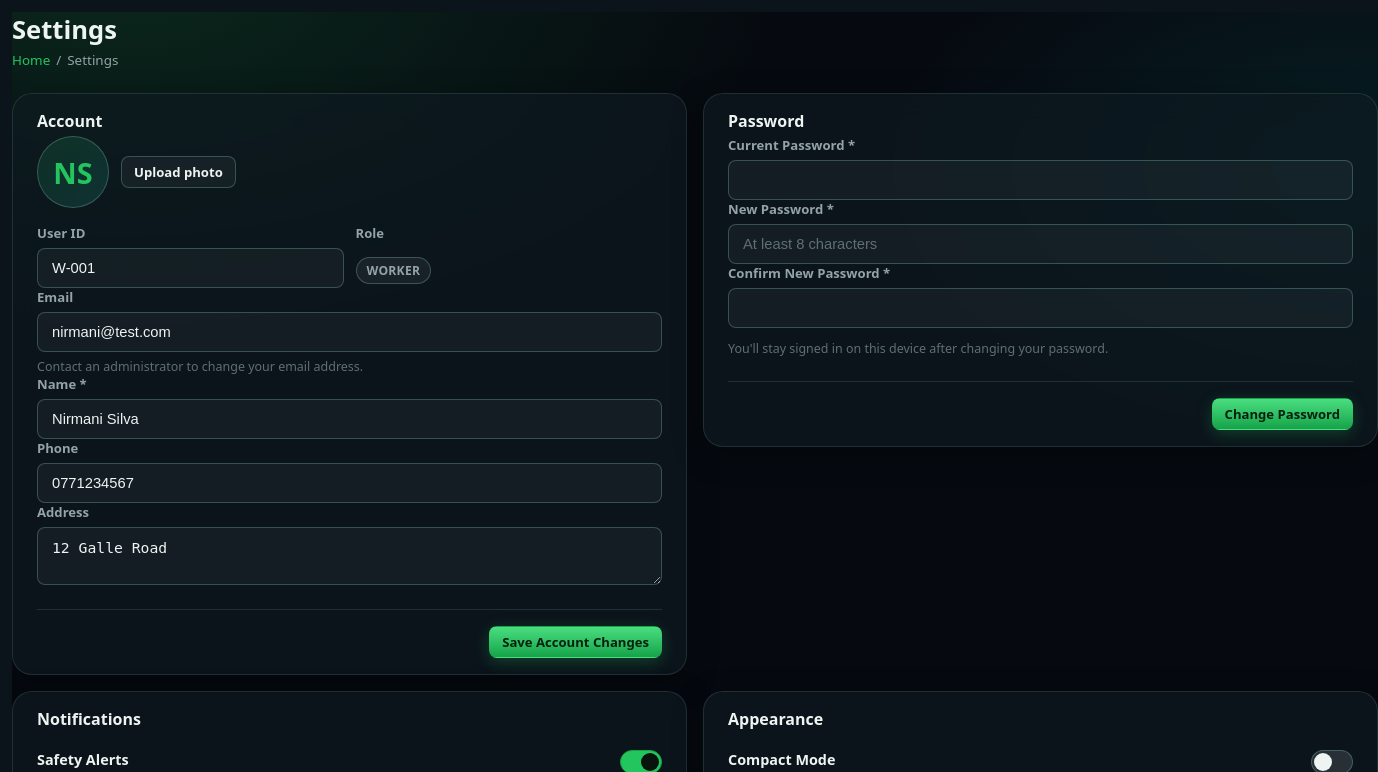
Test: SettingsPage — Account › a server-side validation error (e.g. bad phone) is shown on the field
The width and height of the screenshot is (1378, 772).
Check: the field showing "Nirmani Silva" is shown, box [37,399,662,439]
Click the button "Save Account Changes".
click(576, 642)  # box [489,626,662,658]
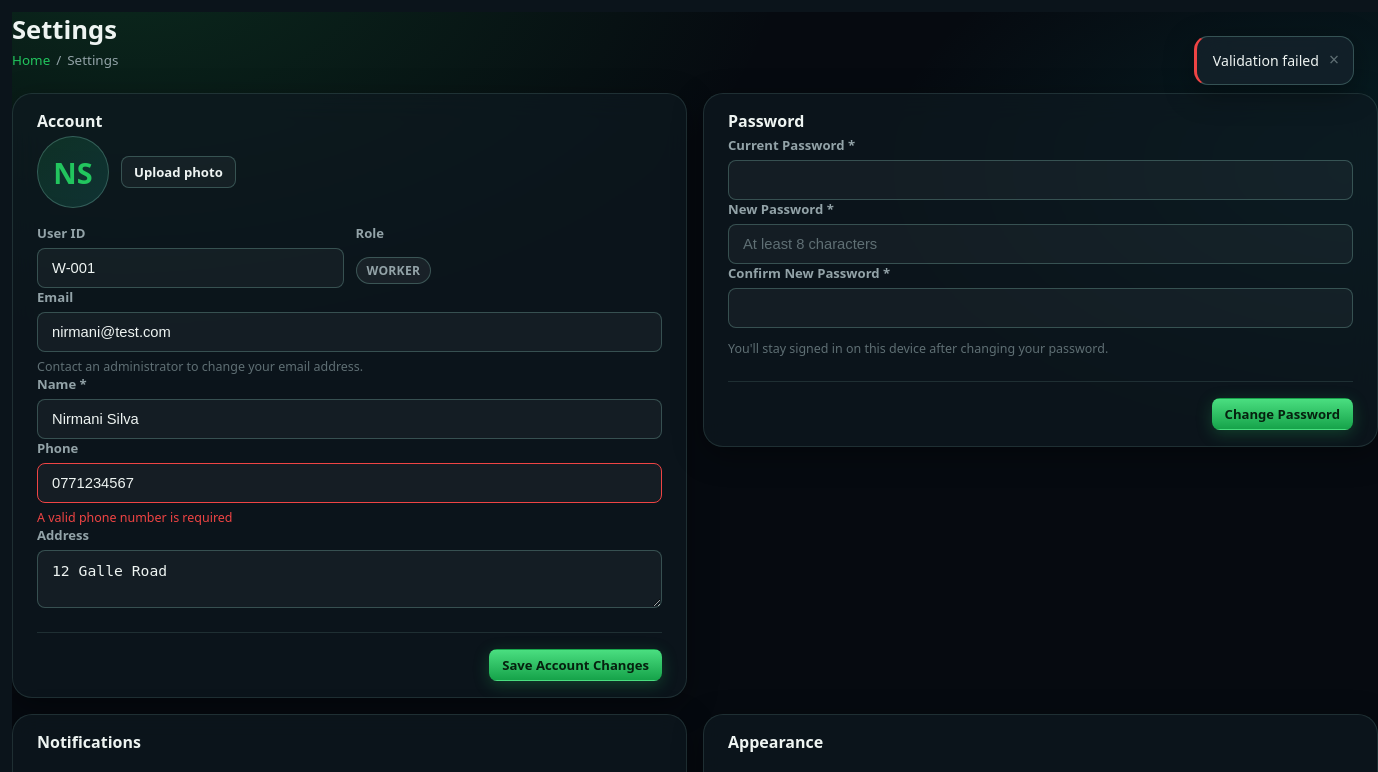
Check: the text "A valid phone number is required" is shown, box [37,509,232,526]
